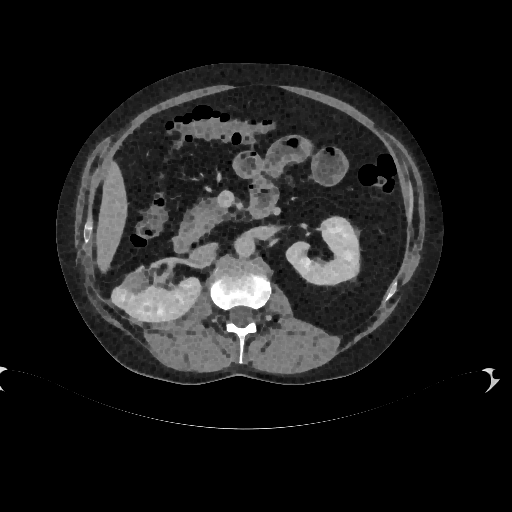Lesion: (120, 273, 149, 294)
